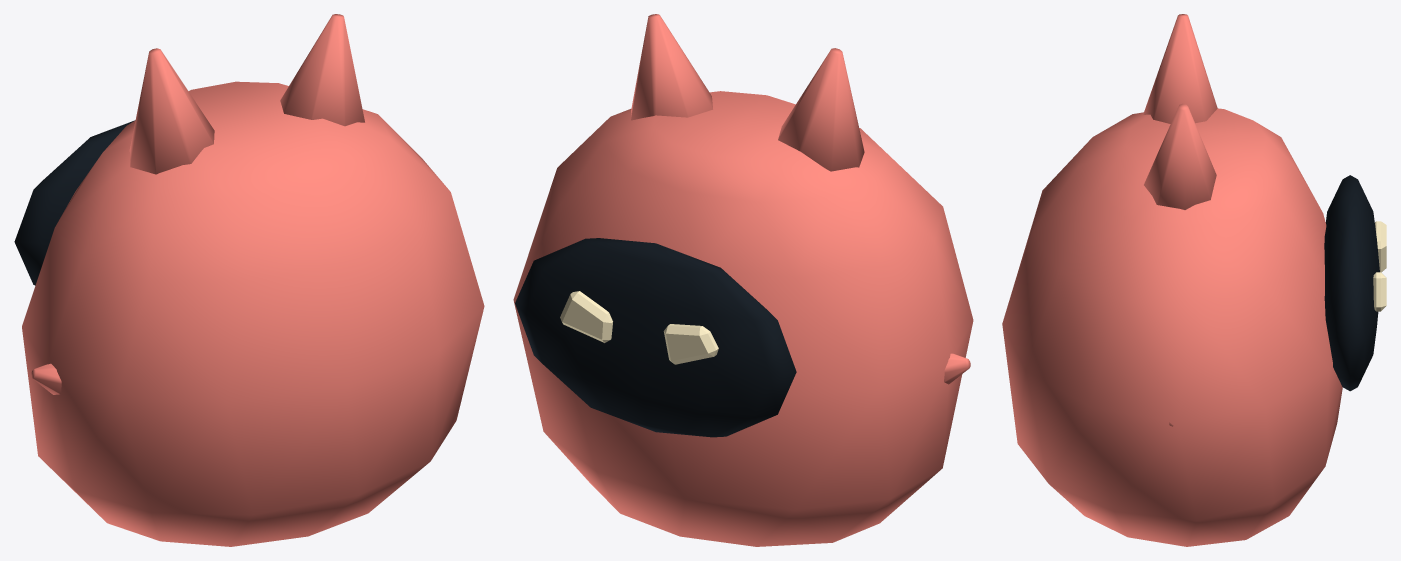
File: CHR_EnemyGhost_A.fbx
3 renders of one model, left to right at view 1: azimuth 30°, elevation 25°; view 2: azimuth 150°, elevation 25°; view 3: azimuth 270°, elevation 25°, orthographic. The views are drawn at different scales.
Parts seen in each view (by area): view 1: CHR_EnemyGhost_A; view 2: CHR_EnemyGhost_A; view 3: CHR_EnemyGhost_A.
Boxes of the visible parts, box(x1,y1,x2,y2) form: CHR_EnemyGhost_A: box(14, 14, 484, 546); CHR_EnemyGhost_A: box(513, 14, 973, 546); CHR_EnemyGhost_A: box(1002, 14, 1386, 546).
Size of the model in its own units: 0.9989 by 1 by 0.8122.
